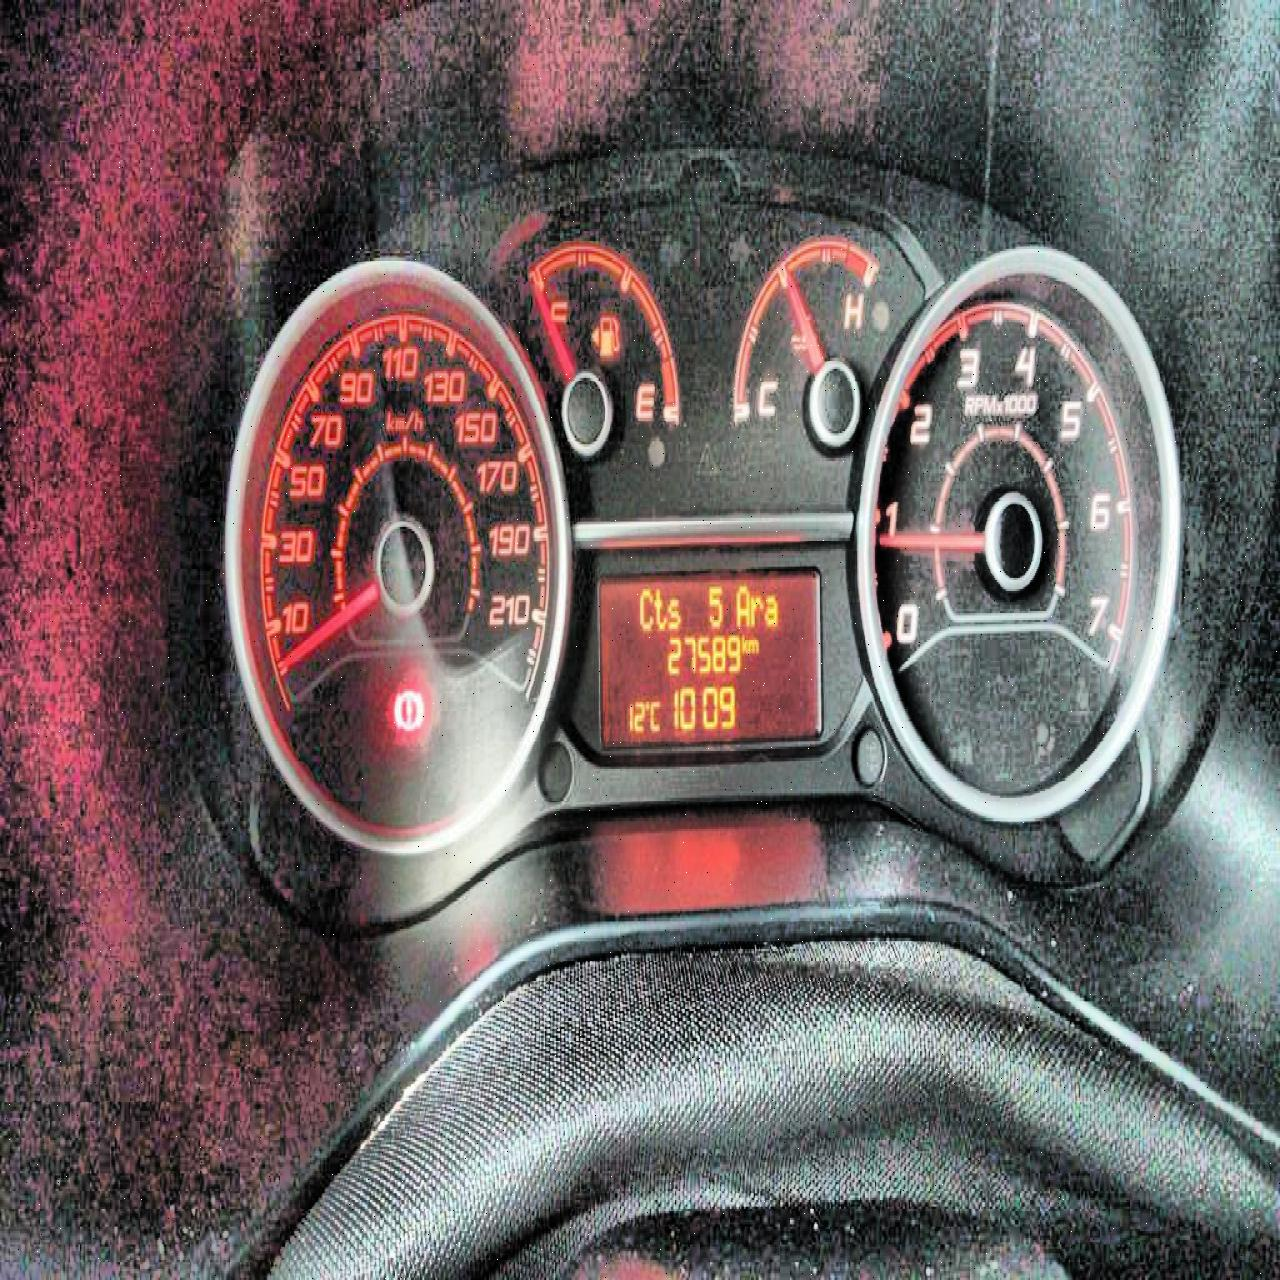0: (678, 682, 696, 731), (700, 682, 717, 729)
1: (670, 685, 678, 731), (626, 697, 633, 731)
2: (665, 633, 680, 675), (633, 697, 645, 734)
5: (707, 580, 722, 629), (696, 633, 710, 674)
7: (681, 633, 695, 674)
8: (712, 633, 723, 670)
9: (717, 682, 735, 729), (726, 631, 741, 673)
X: (734, 580, 749, 629), (638, 585, 653, 632), (653, 583, 667, 631), (749, 591, 763, 625), (763, 591, 777, 625), (666, 595, 680, 628), (649, 697, 660, 731), (748, 635, 757, 654), (742, 628, 747, 653), (645, 695, 649, 709)
odometer: (594, 560, 824, 751)
